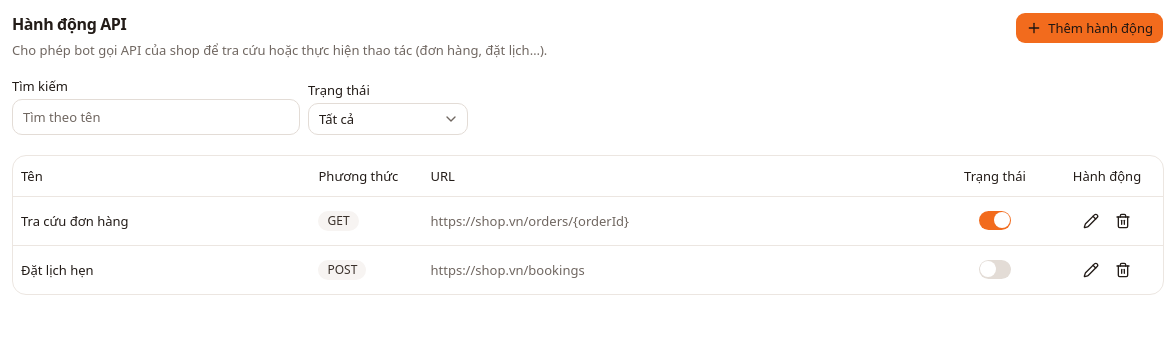
ActionList › searches by name
Expected: the heading "Hành động API" is shown, [12,13,126,35]
Expected: the text "Tra cứu đơn hàng" is shown, [13,196,310,245]
Type "lịch" into the search field labelled "Tìm kiếm". click: (156, 117)
box: [12,99,300,135]
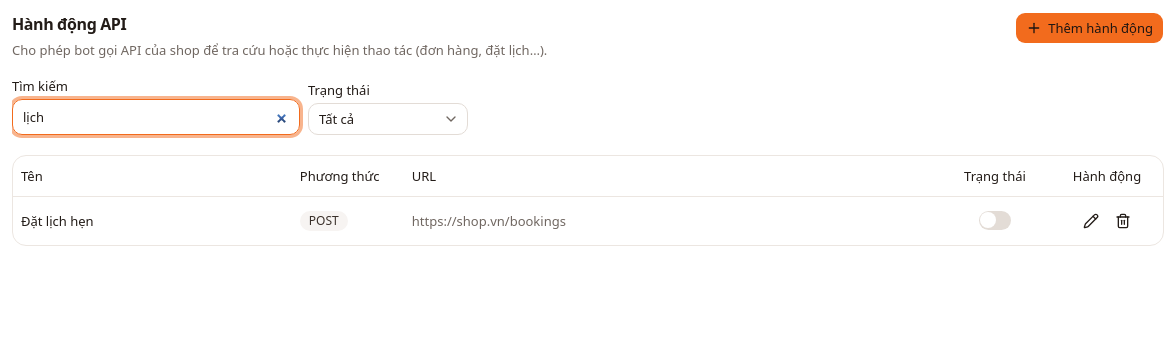
Expected: the text "Đặt lịch hẹn" is shown, [13,196,292,244]
Now the text "Tra cứu đơn hàng" is gone
Replace the text in the search field labelled "Tìm kiếm" with "zzz". click: (156, 117)
box: [12,99,300,135]
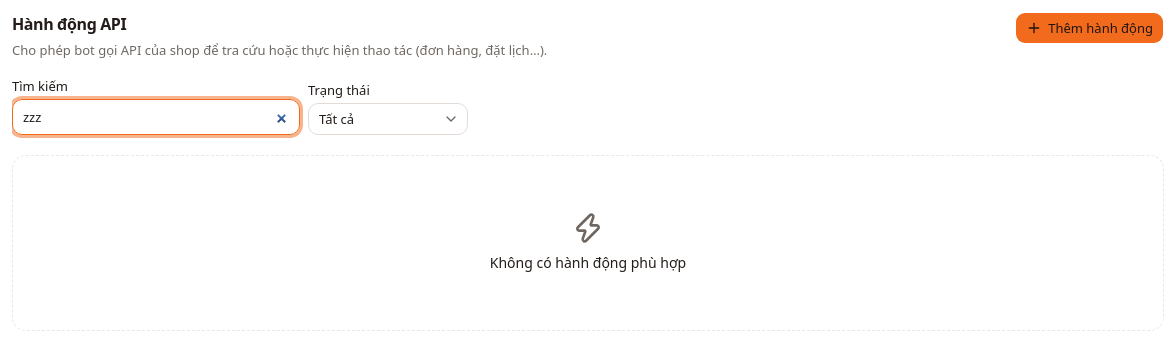
Now the text "Không có hành động phù hợp" is shown, box [490,252,686,274]
